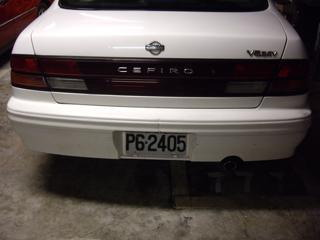plate: (123, 129, 189, 158)
